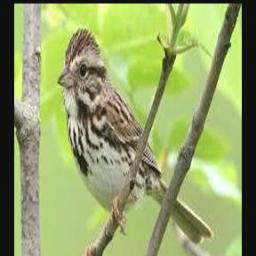Sparrow: (57, 29, 212, 256)
